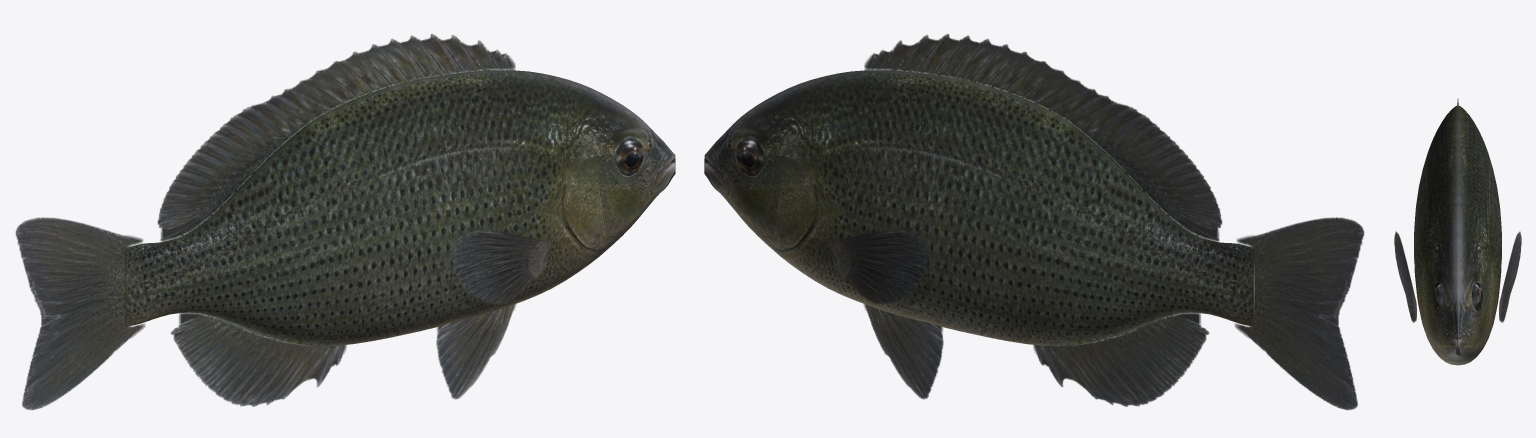
Rendered from kuchibuto.glb.
The picture shows the model from 3 angles, left to right: view 1: azimuth 30°, elevation 25°; view 2: azimuth 150°, elevation 25°; view 3: azimuth 270°, elevation 25°; orthographic projection. The views are drawn at different scales.
Parts seen in each view (by area): view 1: kuchibuto; view 2: kuchibuto; view 3: kuchibuto.
Boxes of the visible parts, x1,y1,x2,y2 form: kuchibuto: (15,34,675,410); kuchibuto: (704,34,1364,410); kuchibuto: (1394,99,1521,365).
Size of the model in its own units: 0.4001 by 0.2187 by 0.0869.
Materials: 1 (1 with a texture image).
